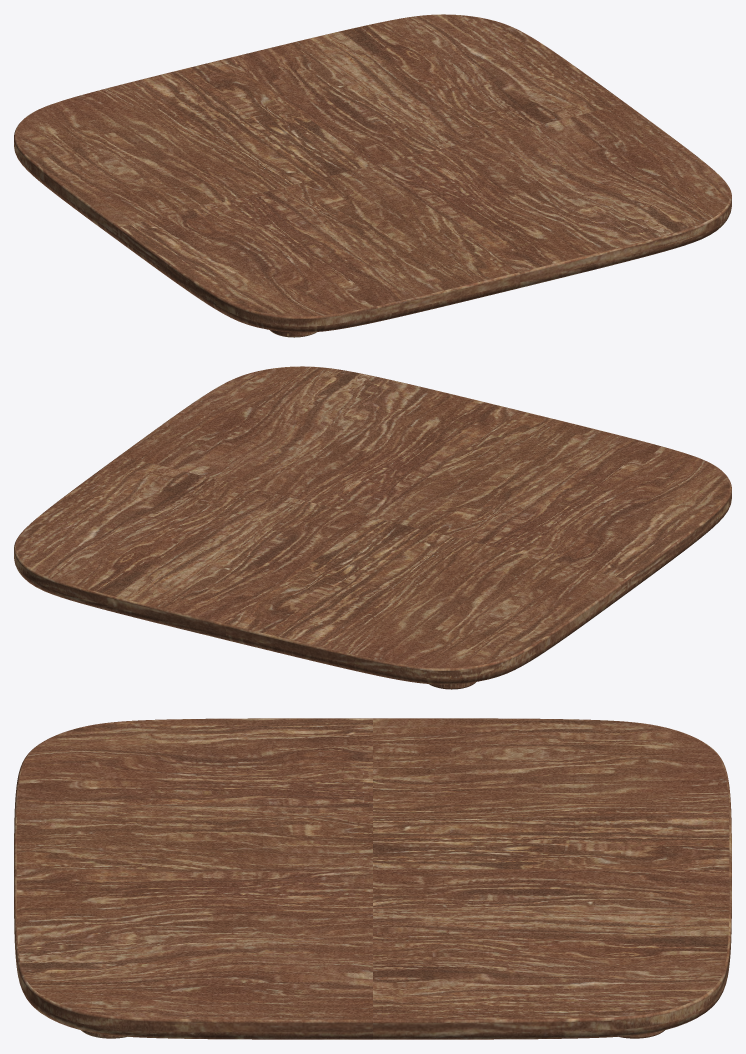
The model's file is TableTop_Square_Cedar.obj.
The picture shows the model from 3 angles, top to bottom: view 1: azimuth 30°, elevation 25°; view 2: azimuth 150°, elevation 25°; view 3: azimuth 270°, elevation 25°; orthographic projection. The views are drawn at different scales.
Size of the model in its own units: 850 by 59.33 by 850.
